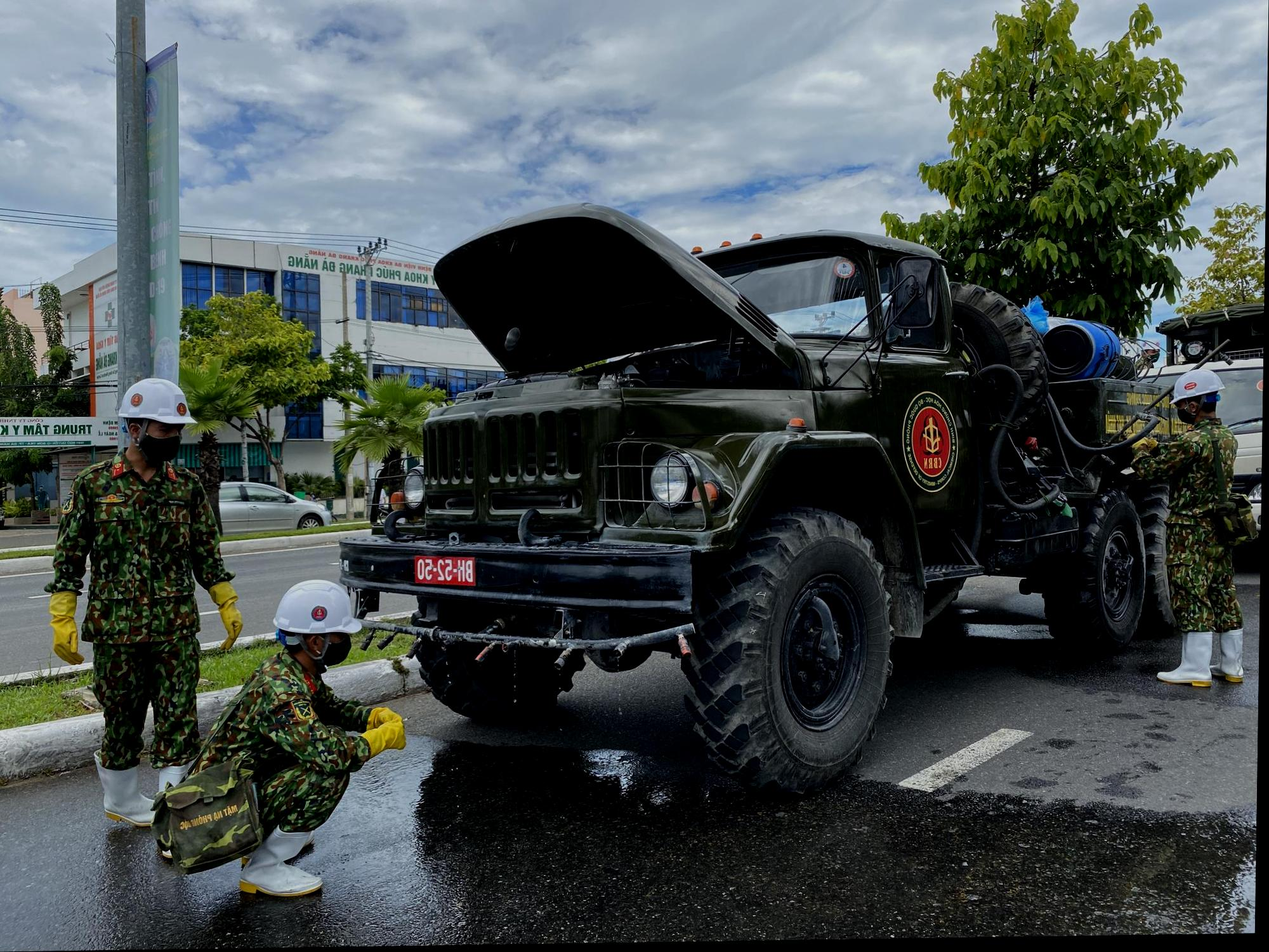License_Plate: (409, 553, 482, 594)
